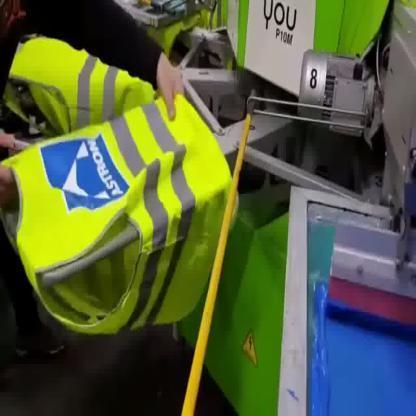vest: (2, 90, 240, 340), (3, 35, 154, 133)
